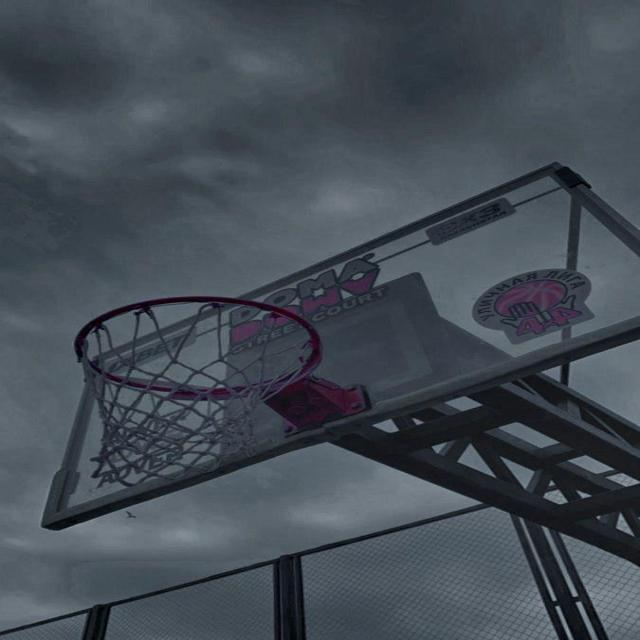hoop: (29, 307, 324, 481)
